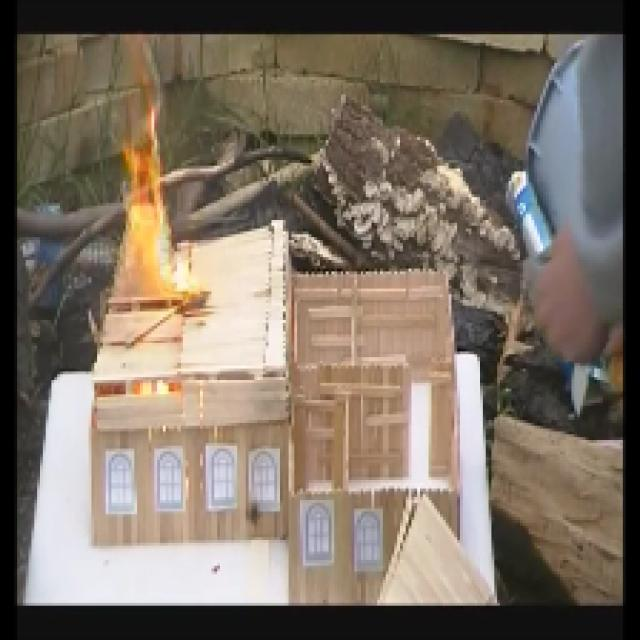fire: (112, 148, 185, 290)
